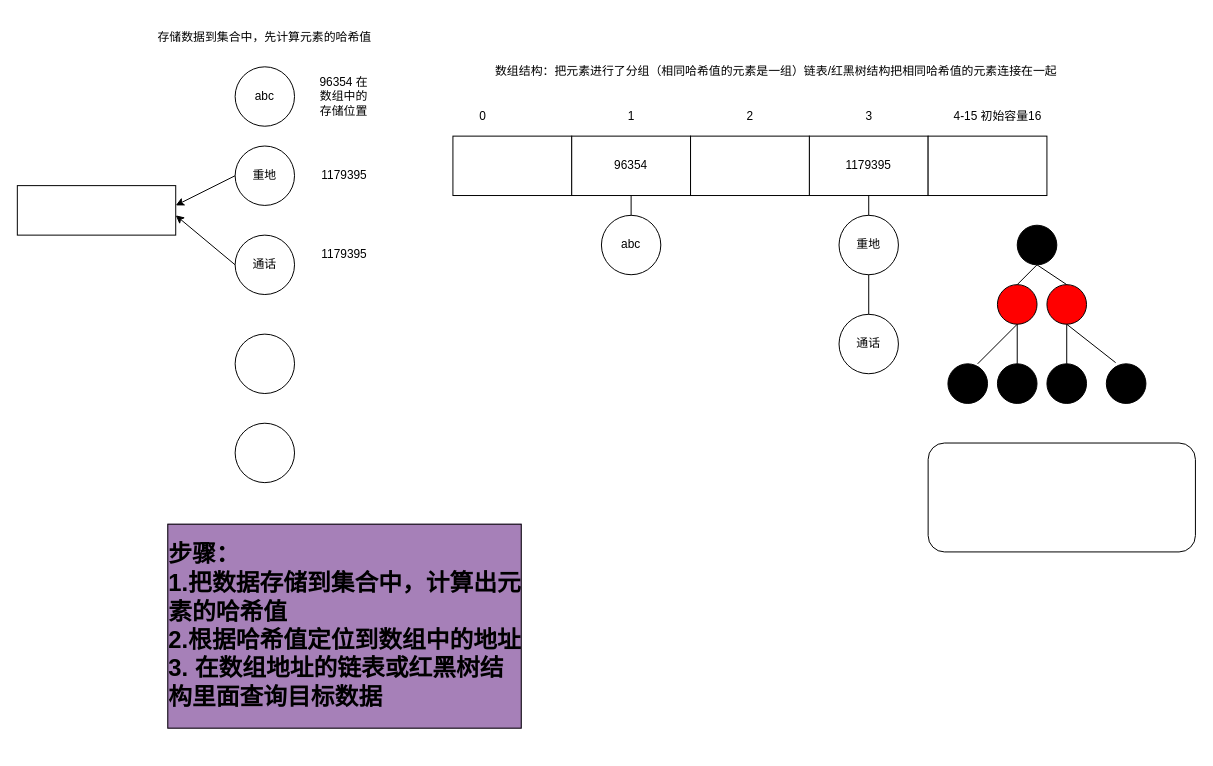
Image size: 1213x766. Some labels were removed from this diagram. Each missing label, with the centre of its shape:
"两个元素不同，但是哈希值相同 -》 哈希冲突" goes at (96,210).
"如果链表的长度超过了八位，就会把链表结构转换为红黑树 -》提高查询速度" goes at (1061,497).
